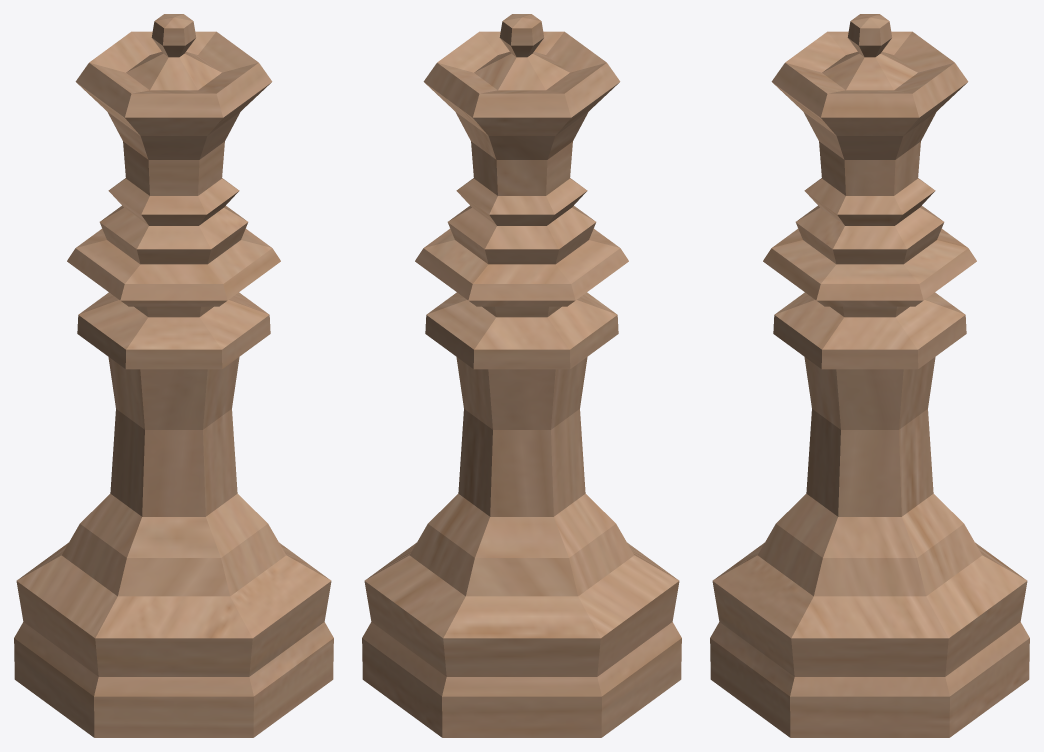
Rendered from queen.obj.
3 views of the same model, side by side, from view 1: azimuth 30°, elevation 25°; view 2: azimuth 150°, elevation 25°; view 3: azimuth 270°, elevation 25° (orthographic).
Visible parts, largest first — view 1: Queen; view 2: Queen; view 3: Queen.
Boxes of the visible parts, <box> form: Queen: <box>14,14,333,737</box>; Queen: <box>362,14,681,737</box>; Queen: <box>710,14,1029,737</box>.
Bounding box in the file's own units: 0.8485 × 2.24 × 0.9797.
1 material, 1 textured.
